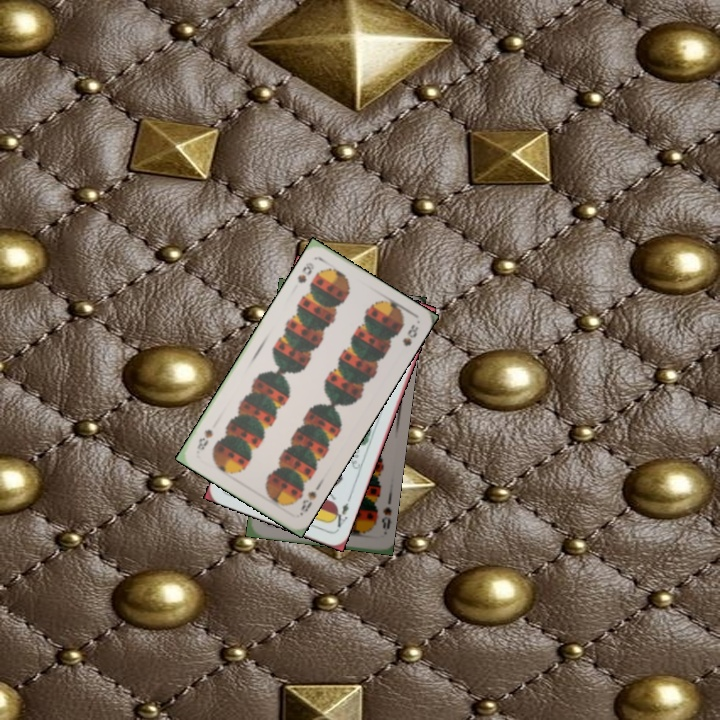EA: (328, 493, 353, 530)
S8: (295, 487, 319, 518), (293, 258, 317, 286), (378, 503, 394, 532)
